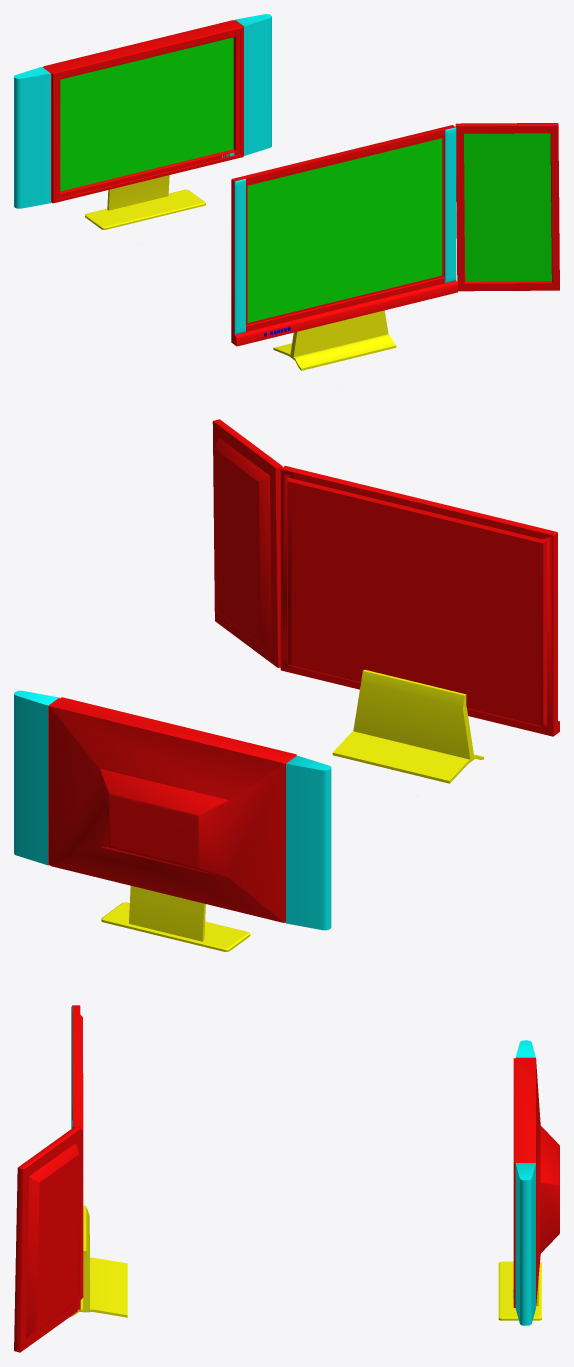
The model's file is desktops_grp.fbx.
The picture shows the model from 3 angles, top to bottom: view 1: azimuth 30°, elevation 25°; view 2: azimuth 150°, elevation 25°; view 3: azimuth 270°, elevation 25°; orthographic projection. The views are drawn at different scales.
Visible parts, largest first — view 1: desktop_1, desktop_2; view 2: desktop_1, desktop_2; view 3: desktop_1, desktop_2.
Part boxes in pixels (box(x1,y1,x2,y2)): desktop_1: box(231, 123, 559, 370); desktop_2: box(14, 14, 271, 229); desktop_1: box(212, 419, 559, 783); desktop_2: box(14, 690, 331, 951); desktop_1: box(14, 1005, 127, 1352); desktop_2: box(498, 1040, 559, 1325).
Size of the model in its own units: 92.03 by 66.02 by 122.
